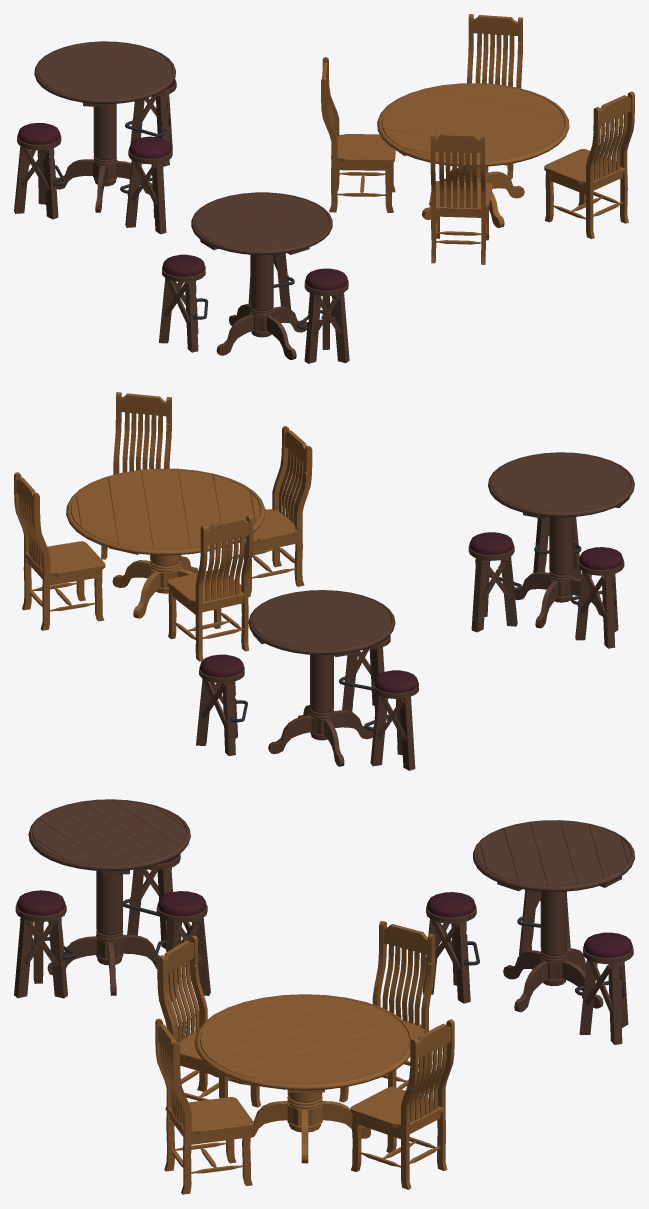
Rendered from Bar_table_with_chairs.fbx.
3 renders of one model, top to bottom at view 1: azimuth 30°, elevation 25°; view 2: azimuth 150°, elevation 25°; view 3: azimuth 270°, elevation 25°, orthographic. The views are drawn at different scales.
Parts seen in each view (by area): view 1: pCylinder10, pCylinder12, pCylinder11, pCube11 (×3), pasted__polySurface21 (×4), pasted__polySurface12 (×4), pCylinder2 (×2), polySurface3 (×3), pasted__polySurface20 (×4), pCube28 (×3), polySurface4 (×2), pasted__polySurface19 (×2) (+4 smaller); view 2: pCylinder10, pCylinder11, pCylinder12, pCube11 (×3), pasted__polySurface21 (×4), pasted__polySurface12 (×4), polySurface4 (×3), polySurface3 (×3), pCylinder2 (×2), pasted__polySurface19 (×4), pCube8 (×3), pCube28 (×2) (+3 smaller); view 3: pCylinder10, pCylinder11, pCylinder12, pasted__polySurface21 (×4), polySurface4 (×4), polySurface3 (×4), pCube11 (×2), pasted__polySurface19 (×4), pCylinder2 (×2), pasted__polySurface12 (×3), pCube28 (×3), pCube31 (×2) (+6 smaller).
Boxes of the visible parts, bbox=[...] form: pCylinder10: bbox=[377, 83, 569, 166]; pCylinder12: bbox=[34, 41, 175, 104]; pCylinder11: bbox=[191, 192, 332, 254]; pCube11 (×3): bbox=[331, 134, 624, 212]; pasted__polySurface21 (×4): bbox=[18, 122, 347, 290]; pasted__polySurface12 (×4): bbox=[14, 146, 349, 363]; pCylinder2 (×2): bbox=[93, 103, 273, 311]; polySurface3 (×3): bbox=[321, 78, 634, 264]; pasted__polySurface20 (×4): bbox=[125, 95, 321, 363]; pCube28 (×3): bbox=[435, 15, 631, 152]; polySurface4 (×2): bbox=[430, 107, 600, 263]; pasted__polySurface19 (×2): bbox=[42, 148, 198, 352]; pCylinder10: bbox=[66, 468, 265, 555]; pCylinder11: bbox=[488, 452, 634, 517]; pCylinder12: bbox=[248, 590, 395, 655]; pCube11 (×3): bbox=[25, 509, 296, 606]; pasted__polySurface21 (×4): bbox=[200, 532, 623, 693]; pasted__polySurface12 (×4): bbox=[196, 558, 615, 770]; polySurface4 (×3): bbox=[14, 445, 312, 661]; polySurface3 (×3): bbox=[32, 426, 289, 651]; pCylinder2 (×2): bbox=[310, 517, 573, 713]; pasted__polySurface19 (×4): bbox=[222, 517, 549, 756]; pCube8 (×3): bbox=[112, 560, 549, 754]; pCube28 (×2): bbox=[120, 393, 248, 544]; pCylinder10: bbox=[194, 994, 414, 1090]; pCylinder11: bbox=[28, 799, 190, 871]; pCylinder12: bbox=[473, 820, 634, 891]; pasted__polySurface21 (×4): bbox=[16, 890, 632, 957]; polySurface4 (×4): bbox=[155, 933, 435, 1189]; polySurface3 (×4): bbox=[157, 921, 454, 1194]; pCube11 (×2): bbox=[167, 1086, 442, 1134]; pasted__polySurface19 (×4): bbox=[48, 868, 537, 1003]; pCylinder2 (×2): bbox=[96, 870, 566, 956]; pasted__polySurface12 (×3): bbox=[14, 918, 622, 1044]; pCube28 (×3): bbox=[164, 924, 450, 1058]; pCube31 (×2): bbox=[47, 936, 547, 1012].
Size of the model in its own units: 17.28 by 4.57 by 16.96.
